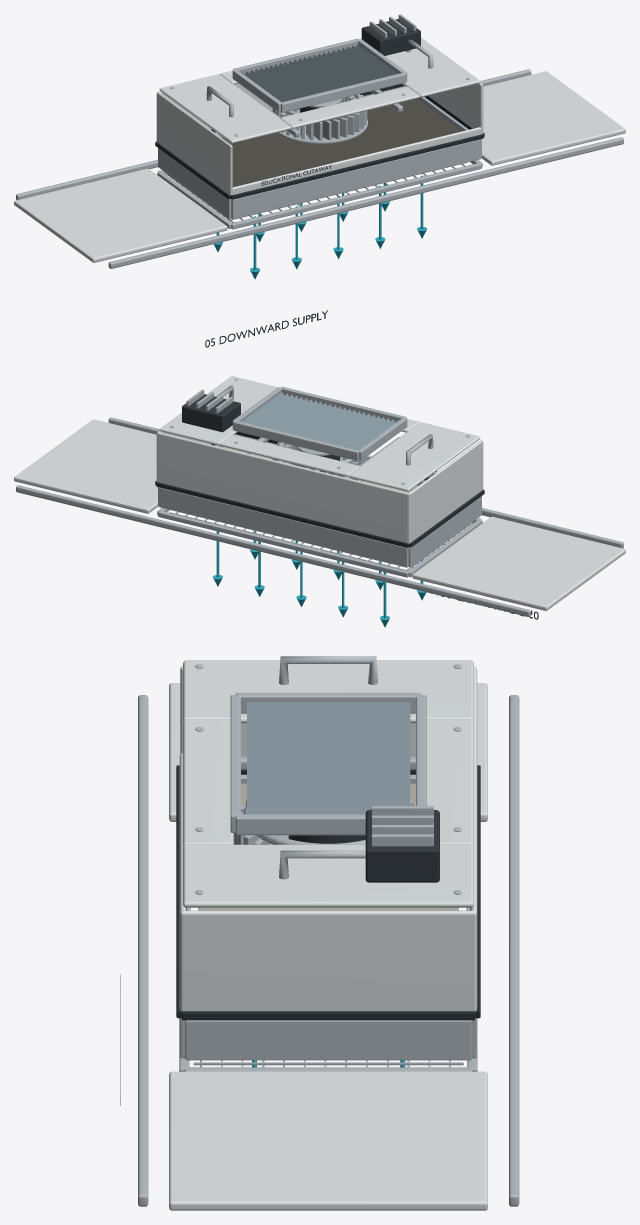
The model's file is ffu_05_downward_supply.glb.
3 renders of one model, top to bottom at view 1: azimuth 30°, elevation 25°; view 2: azimuth 150°, elevation 25°; view 3: azimuth 270°, elevation 25°, orthographic. The views are drawn at different scales.
Parts seen in each view (by area): view 1: Ceiling panel.002, Ceiling panel.003, HEPA aluminum frame.018, Top left.004, Ceiling T grid.002, Housing side.008, Top right.004, Cutaway front lower lip.002, Top edge panel.008, Protective grille frame.018, Housing side.009, HEPA aluminum frame.016 (+9 smaller); view 2: Housing back.004, Ceiling panel.002, Ceiling panel.003, HEPA aluminum frame.019, Top left.004, Ceiling T grid.003, Housing side.008, Top right.004, Top edge panel.009, Protective grille frame.019, HEPA aluminum frame.016, Optional prefilter frame.019 (+8 smaller); view 3: Ceiling panel.003, Housing side.009, Top right.004, HEPA aluminum frame.017, Top left.004, Top edge panel.008, Ceiling T grid.002, Ceiling T grid.003, Top edge panel.009, EC controller.004, Sealed edge.017, Optional prefilter frame.017 (+36 smaller).
Boxes of the visible parts, x1,y1,x2,y2 form: Ceiling panel.002: (14, 168, 227, 262); Ceiling panel.003: (481, 71, 625, 165); HEPA aluminum frame.018: (231, 139, 480, 219); Top left.004: (159, 74, 291, 143); Ceiling T grid.002: (108, 137, 623, 268); Housing side.008: (156, 92, 232, 195); Top right.004: (385, 37, 480, 97); Cutaway front lower lip.002: (232, 127, 481, 194); Top edge panel.008: (280, 86, 419, 128); Protective grille frame.018: (231, 163, 481, 229); Housing side.009: (428, 82, 483, 133); HEPA aluminum frame.016: (158, 148, 231, 218); Housing back.004: (158, 432, 408, 542); Ceiling panel.002: (412, 516, 625, 610); Ceiling panel.003: (14, 419, 158, 513); HEPA aluminum frame.019: (159, 487, 408, 567); Top left.004: (348, 422, 480, 491); Ceiling T grid.003: (16, 485, 531, 616); Housing side.008: (407, 440, 483, 543); Top right.004: (159, 376, 277, 445); Top edge panel.009: (220, 435, 359, 476); Protective grille frame.019: (158, 511, 408, 577); HEPA aluminum frame.016: (408, 496, 481, 567); Optional prefilter frame.019: (233, 421, 358, 460); Ceiling panel.003: (169, 1071, 487, 1210); Housing side.009: (180, 910, 476, 1011); Top right.004: (183, 844, 473, 907); HEPA aluminum frame.017: (185, 1020, 471, 1060); Top left.004: (183, 660, 473, 723); Top edge panel.008: (183, 719, 233, 846); Ceiling T grid.002: (138, 695, 148, 1206); Ceiling T grid.003: (509, 695, 519, 1206); Top edge panel.009: (426, 719, 473, 846); EC controller.004: (365, 810, 439, 882); Sealed edge.017: (181, 1011, 475, 1020); Optional prefilter frame.017: (235, 814, 365, 835).
Bounding box in the file's own units: 8.3 × 3.12 × 2.69.
